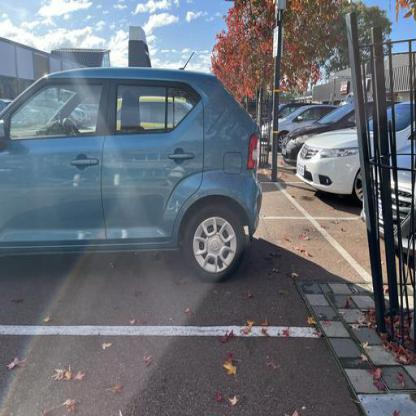Tire: (182, 202, 247, 282)
